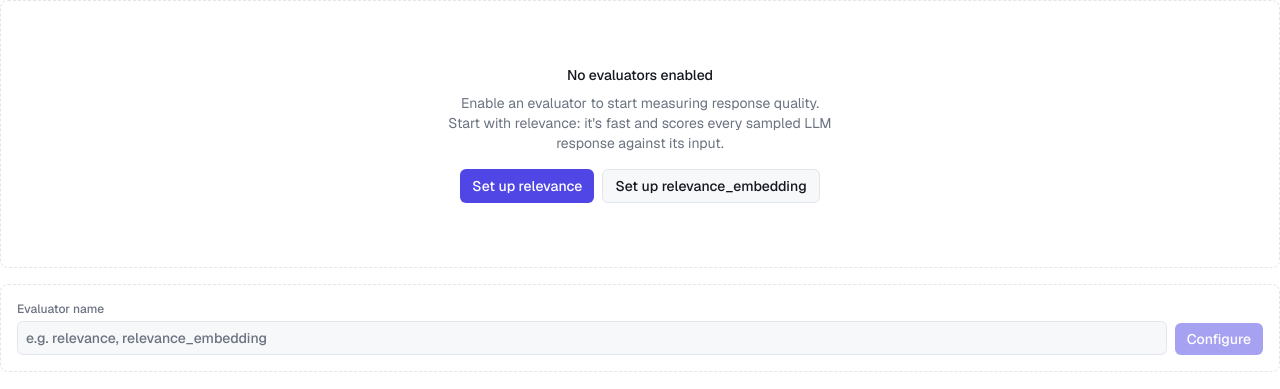
EvaluatorConfigsPanel › still closes the add-evaluator form once that same evaluator's config is the one saved
In the field labelled "Evaluator name": (592, 338) [17,321,1167,355], type "toxicity"
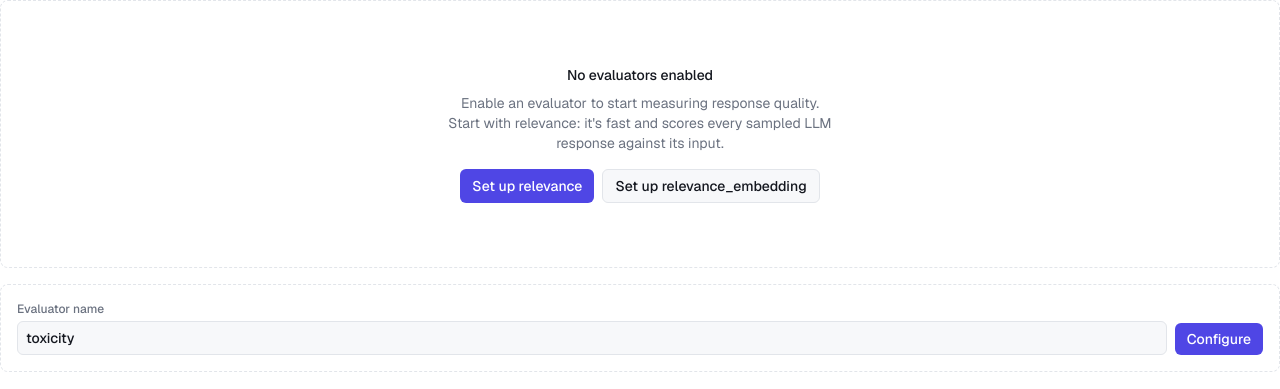
Click the button "Configure": (1219, 339) [1175,323,1263,355]
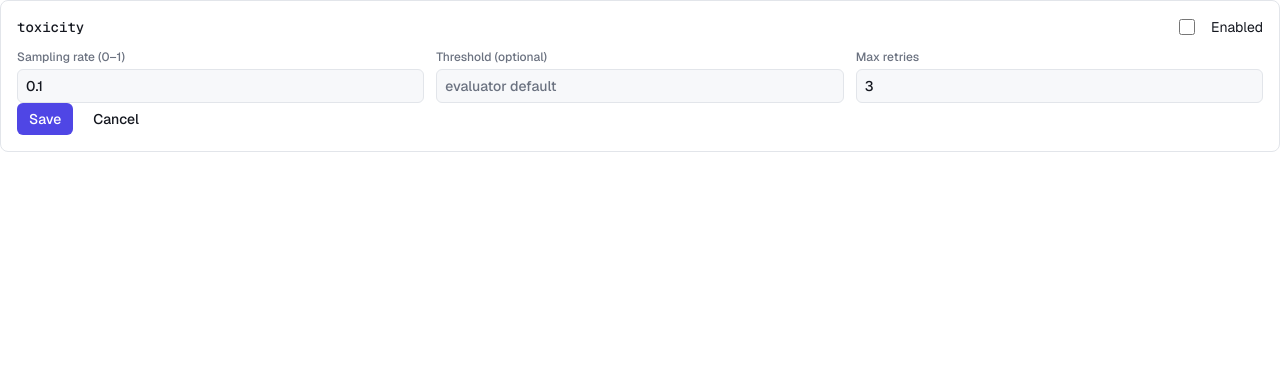
Click the button "Save": (45, 119) [17,103,73,135]
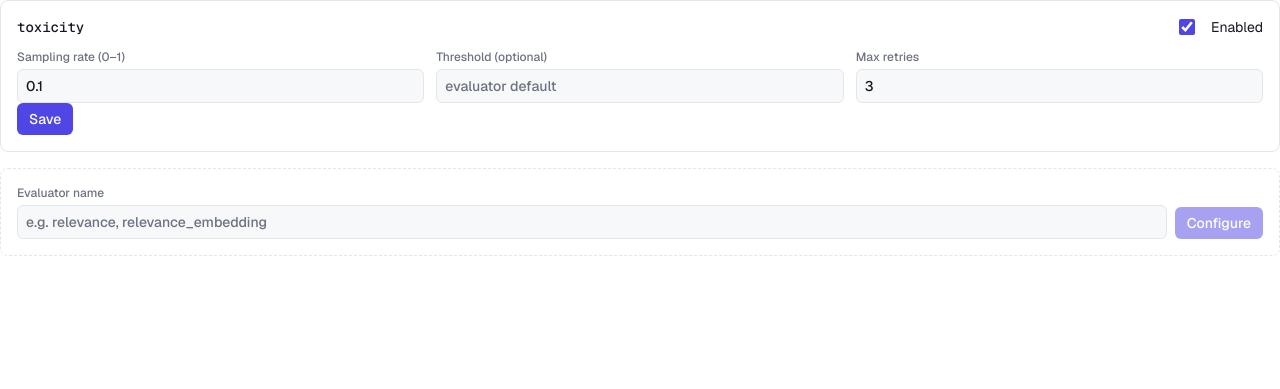
Expected: the button "Cancel" is gone
Expected: the field labelled "Evaluator name" is empty, [17,205,1167,239]
